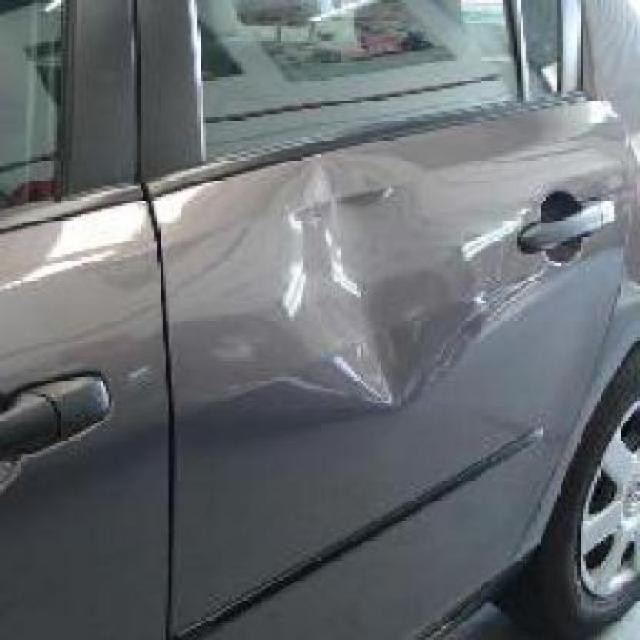dent-or-scratch: (229, 147, 468, 410)
